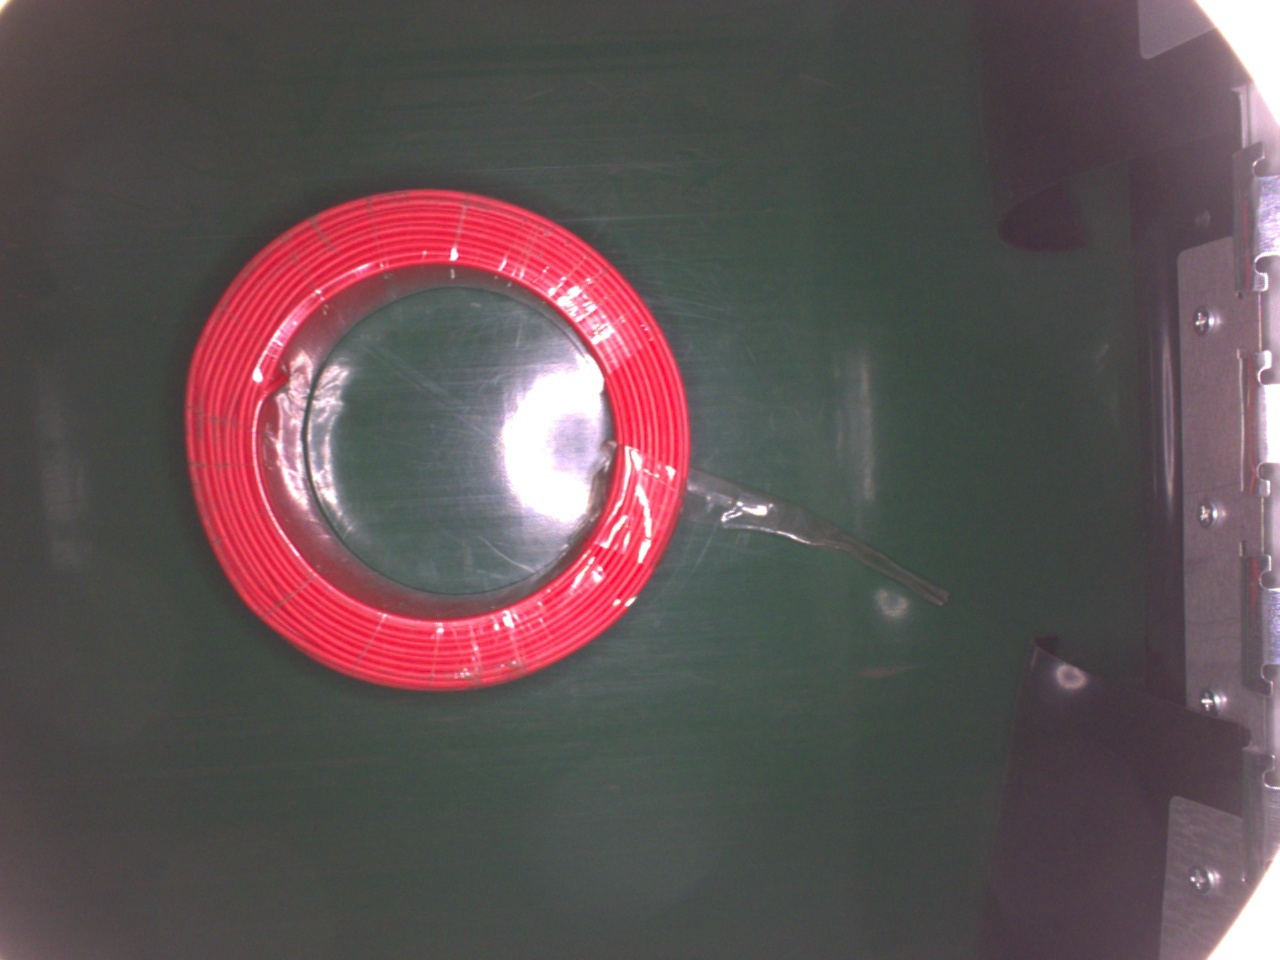red: (188, 183, 689, 696)
